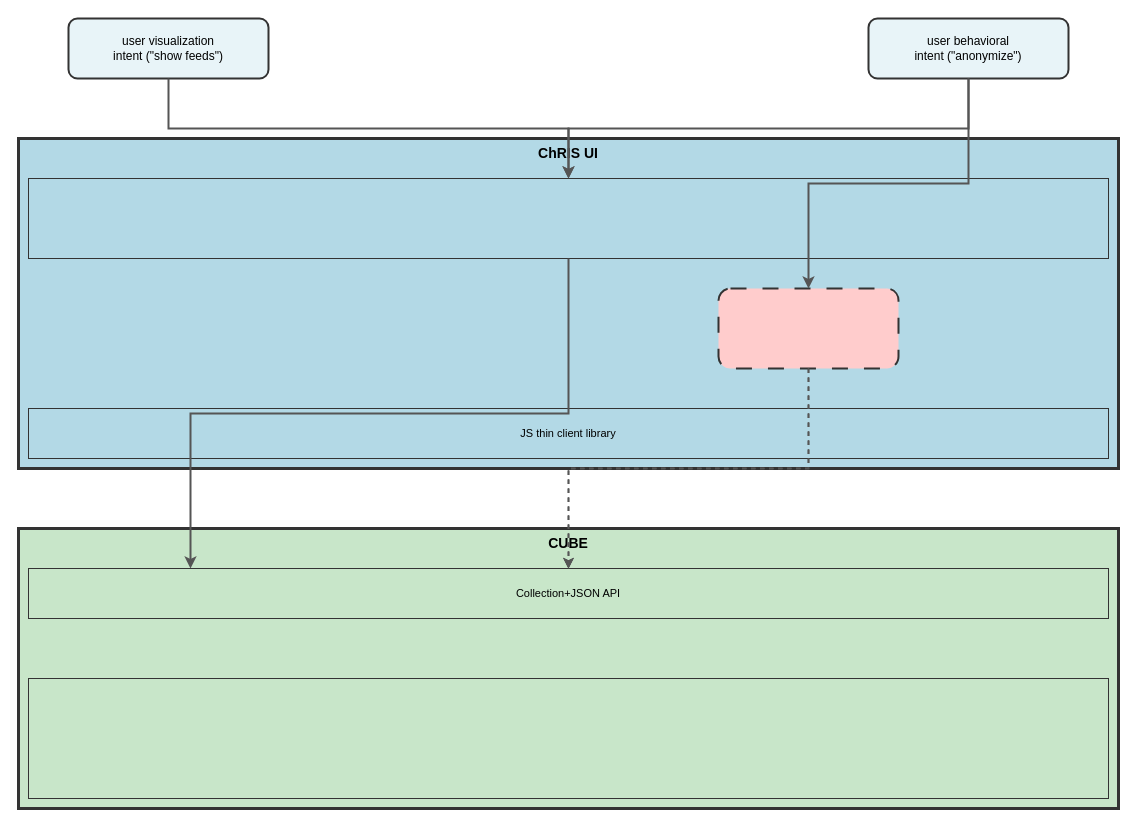
Image size: 1137x827. Some labels were removed from this diagram. Each missing label, with the centre of its shape:
CUBE Python/Django internals: [568,738]
Intent Translator (refactored block): [808,328]
React components handles "show feeds" intent: [568,218]
